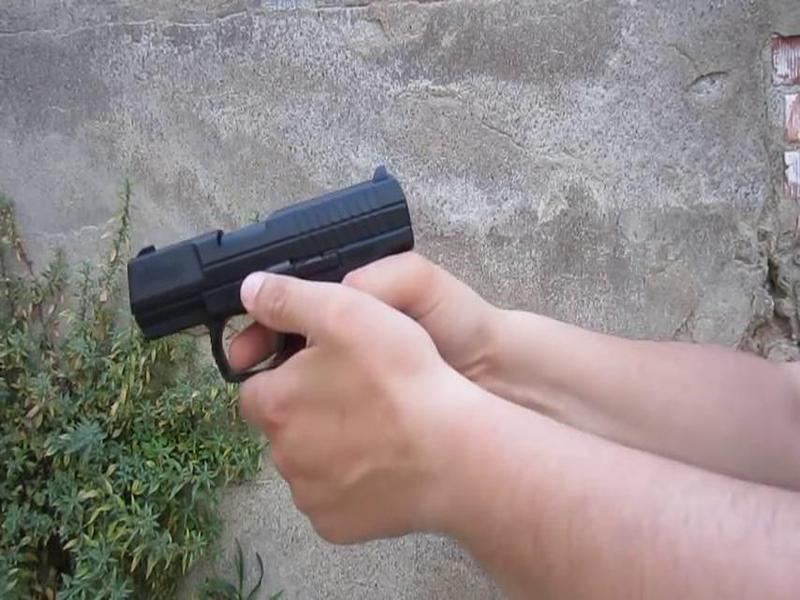Pistola: (105, 156, 452, 403)
